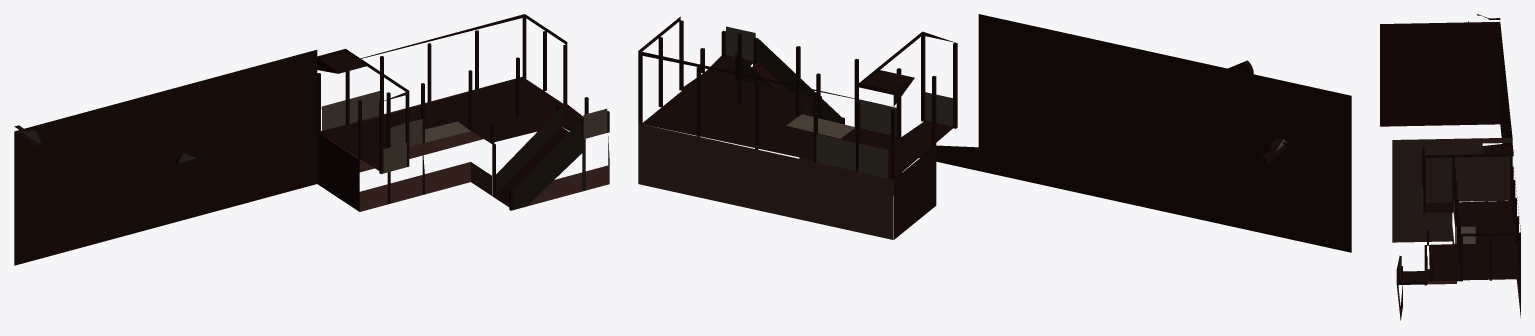
Rendered from hair-of-the-dog-pub.glb.
The picture shows the model from 3 angles, left to right: view 1: azimuth 30°, elevation 25°; view 2: azimuth 150°, elevation 25°; view 3: azimuth 270°, elevation 25°; orthographic projection. The views are drawn at different scales.
Parts seen in each view (by area): view 1: LOD0; view 2: LOD0; view 3: LOD0.
Part boxes in pixels (x1,y1,x2,y2): LOD0: (14, 14, 609, 265); LOD0: (638, 14, 1351, 252); LOD0: (1380, 14, 1520, 320).
Size of what is drawn, in the model's own units: 33.14 by 8.68 by 9.99.
Materials: 3 (3 with a texture image).
